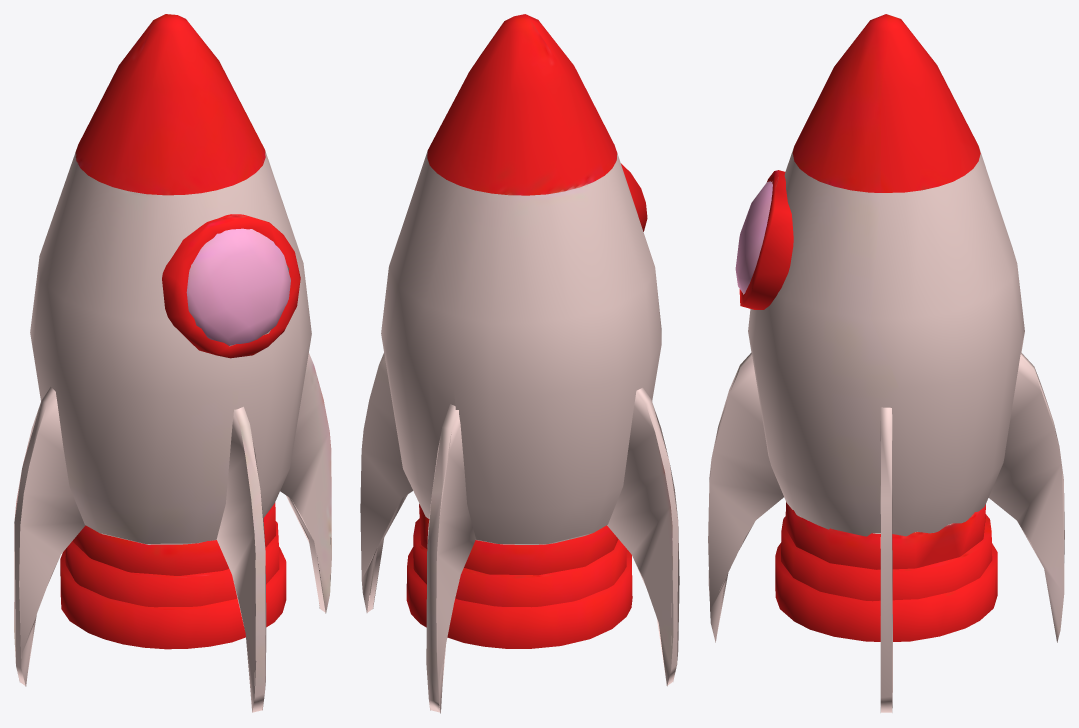
File: rocket-D6Rtk7R6.glb
3 views of the same model, side by side, from view 1: azimuth 30°, elevation 25°; view 2: azimuth 150°, elevation 25°; view 3: azimuth 270°, elevation 25° (orthographic).
Visible parts, largest first — view 1: Toy Rocket; view 2: Toy Rocket; view 3: Toy Rocket.
Part boxes in pixels (bbox=[...]): Toy Rocket: bbox=[14, 14, 331, 712]; Toy Rocket: bbox=[360, 14, 679, 713]; Toy Rocket: bbox=[708, 14, 1064, 712].
Bounding box in the file's own units: 0.8098 × 1.56 × 0.8098.
Materials: 1 (1 with a texture image).
